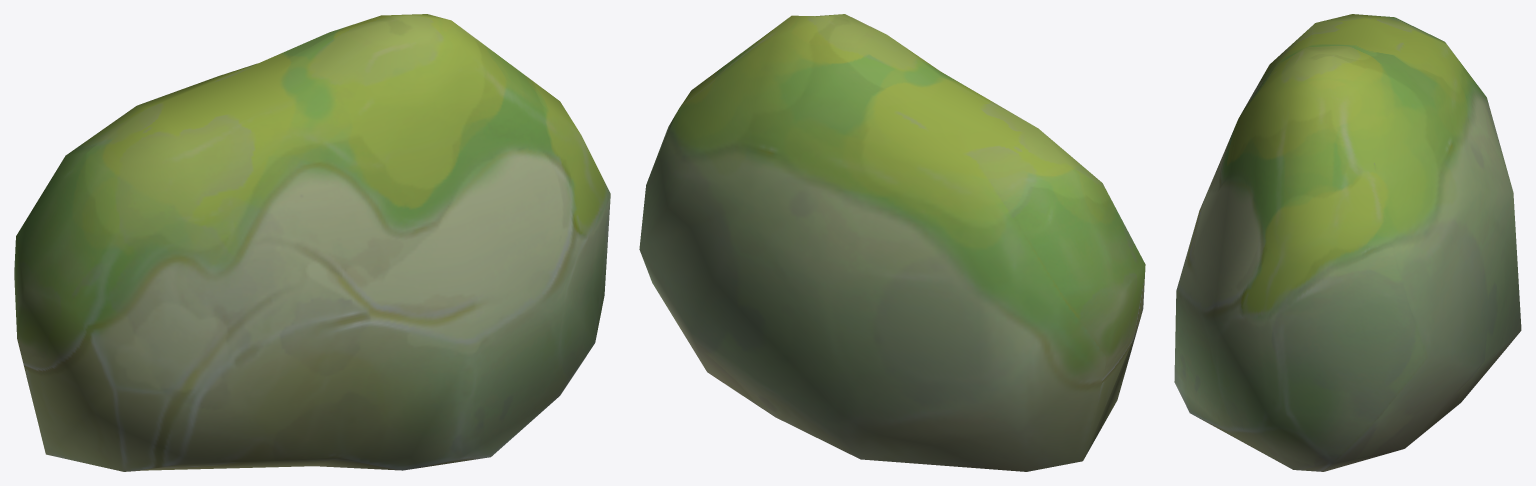
The model's file is HGS_YS01b.fbx.
3 views of the same model, side by side, from view 1: azimuth 30°, elevation 25°; view 2: azimuth 150°, elevation 25°; view 3: azimuth 270°, elevation 25° (orthographic). The views are drawn at different scales.
Visible parts, largest first — view 1: HGS_YS01b; view 2: HGS_YS01b; view 3: HGS_YS01b.
Part boxes in pixels (box(x1,y1,x2,y2)): HGS_YS01b: box(14, 14, 610, 471); HGS_YS01b: box(639, 14, 1145, 471); HGS_YS01b: box(1174, 14, 1521, 471).
Size of the model in its own units: 389 by 273 by 244.
